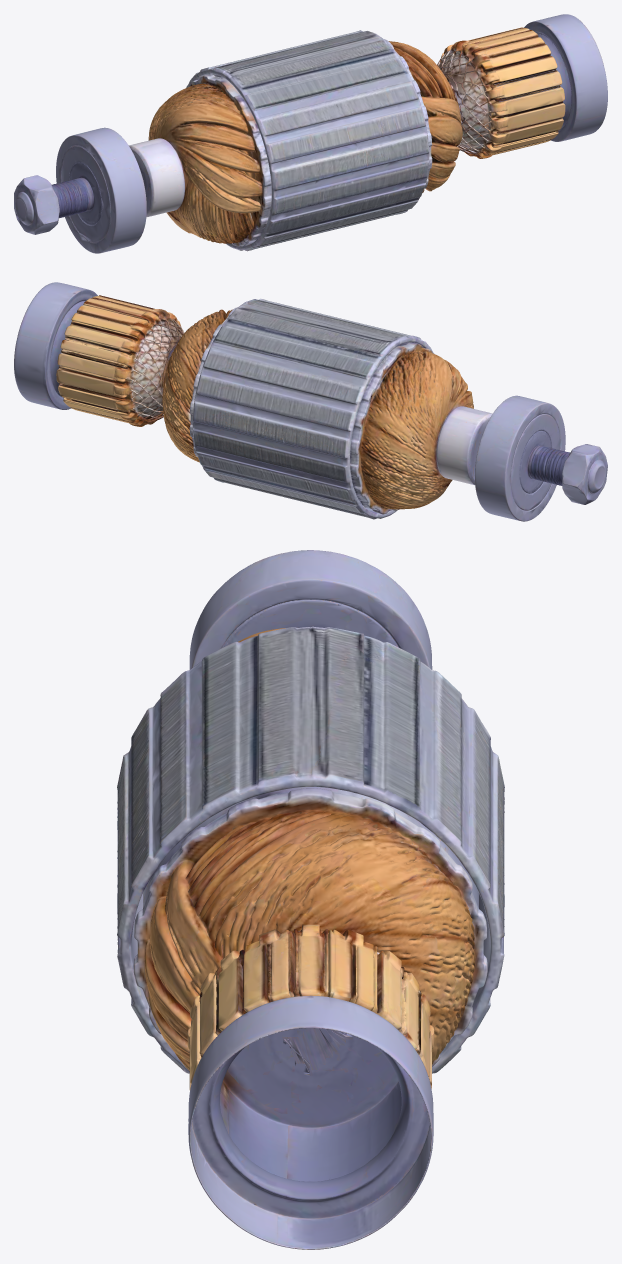
File: inf.glb
3 views of the same model, one above another, from view 1: azimuth 30°, elevation 25°; view 2: azimuth 150°, elevation 25°; view 3: azimuth 270°, elevation 25° (orthographic). The views are drawn at different scales.
Parts seen in each view (by area): view 1: node_0; view 2: node_0; view 3: node_0.
Boxes of the visible parts, <box> form: node_0: <box>14,14,607,253</box>; node_0: <box>14,282,607,521</box>; node_0: <box>117,550,504,1249</box>.
Bounding box in the file's own units: 1.18 × 0.3469 × 0.3559.
1 material, 1 textured.
